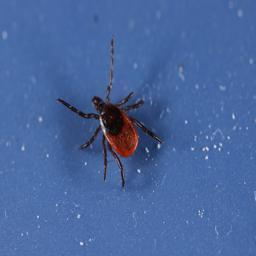Ixodes scapularis: (57, 39, 161, 187)
